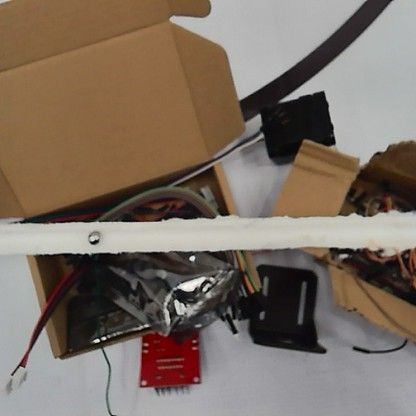ironball: (84, 228, 101, 244)
